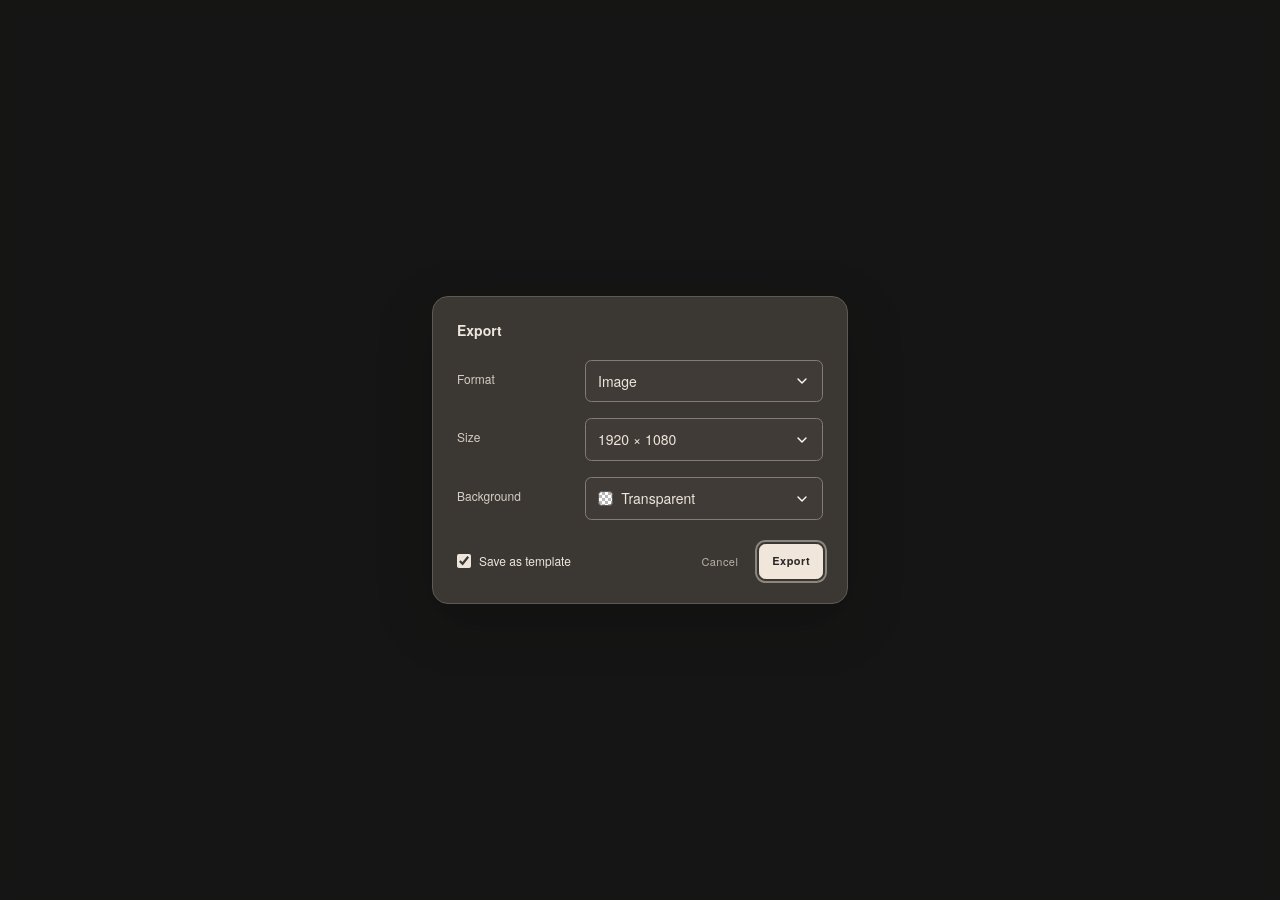
Test case: ExportDialog › closes an open select on Escape without closing the dialog
The width and height of the screenshot is (1280, 900).
Click the button named "Size": (704, 440) [585, 418, 823, 461]
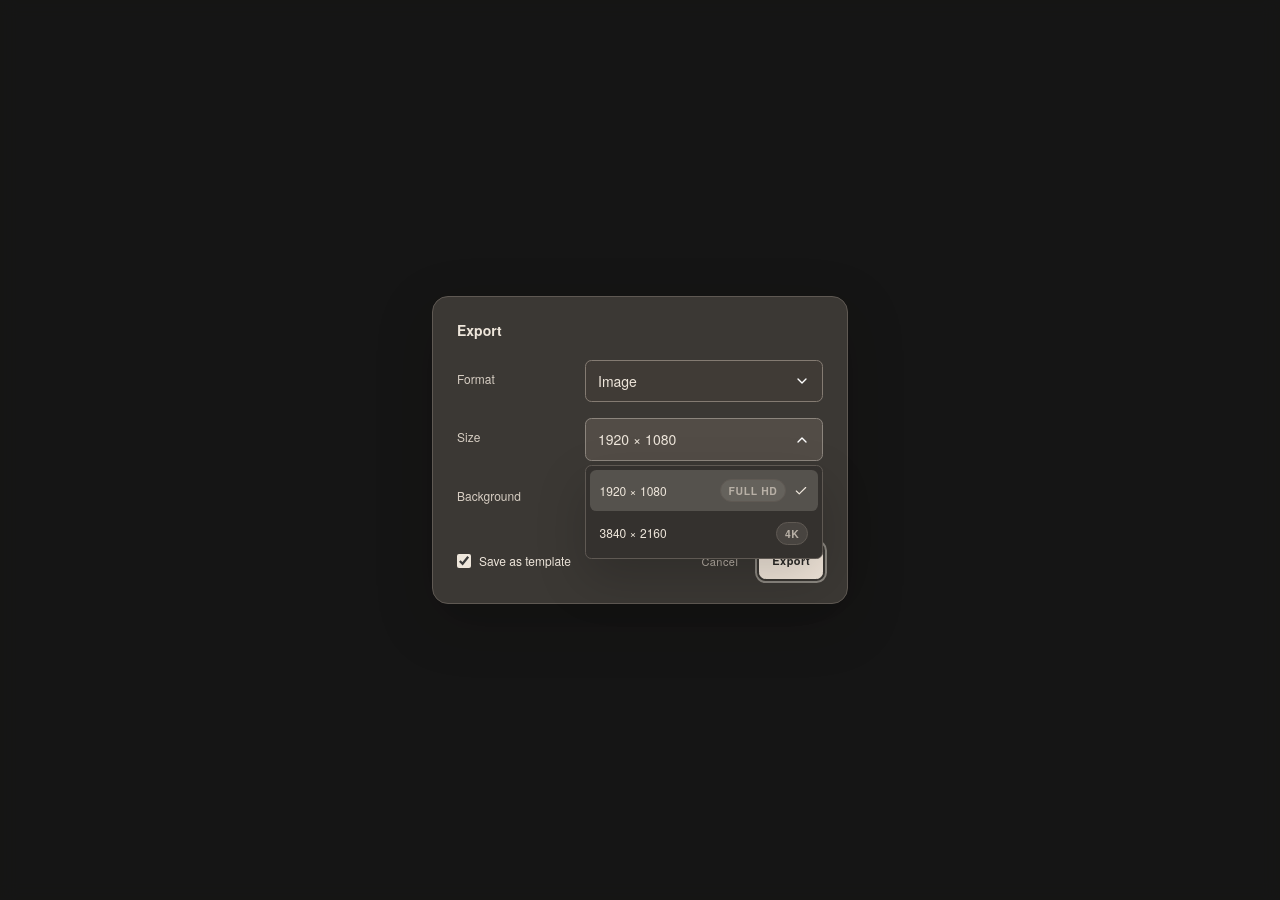
Press Escape
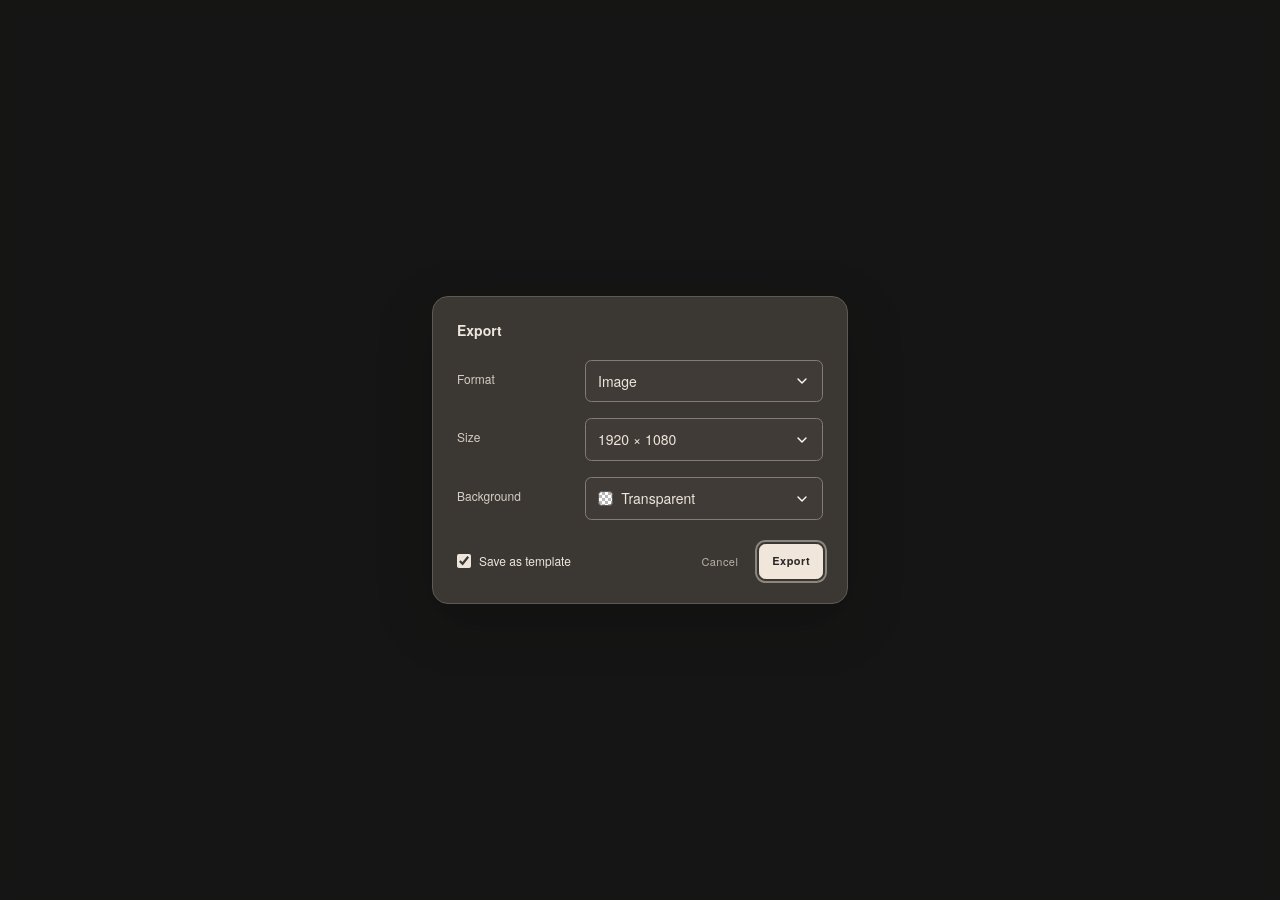
Check: the list is gone
